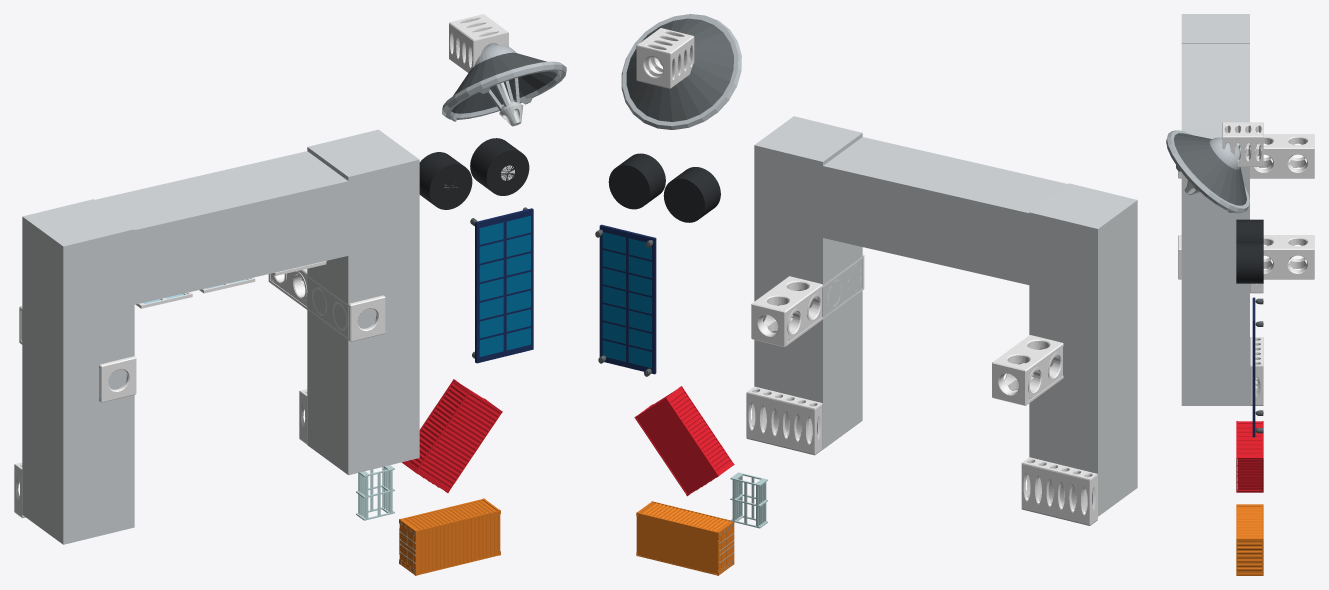
The model's file is tinker.obj.
3 views of the same model, side by side, from view 1: azimuth 30°, elevation 25°; view 2: azimuth 150°, elevation 25°; view 3: azimuth 270°, elevation 25° (orthographic). The views are drawn at different scales.
Parts seen in each view (by area): view 1: obj_0, obj_1, obj_2, obj_6, obj_3, obj_33, obj_4, obj_32, obj_7, obj_27, obj_34, obj_5 (+1 smaller); view 2: obj_1, obj_0, obj_2, obj_33, obj_6, obj_3, obj_4, obj_32, obj_30, obj_29, obj_31, obj_34 (+3 smaller); view 3: obj_2, obj_1, obj_33, obj_31, obj_32, obj_0, obj_3, obj_4, obj_34, obj_7, obj_30, obj_6 (+1 smaller).
Boxes of the visible parts, x1,y1,x2,y2 form: obj_0: [22, 199, 134, 544]; obj_1: [63, 151, 419, 320]; obj_2: [307, 129, 419, 475]; obj_6: [470, 207, 533, 363]; obj_3: [399, 498, 500, 575]; obj_33: [442, 44, 566, 126]; obj_4: [402, 379, 502, 492]; obj_32: [268, 269, 385, 341]; obj_7: [470, 138, 529, 195]; obj_27: [419, 152, 472, 209]; obj_34: [449, 14, 508, 72]; obj_5: [356, 465, 394, 520]; obj_1: [754, 137, 1097, 300]; obj_0: [1029, 183, 1137, 516]; obj_2: [754, 116, 862, 449]; obj_33: [621, 14, 741, 129]; obj_6: [595, 224, 656, 376]; obj_3: [636, 501, 734, 575]; obj_4: [634, 386, 734, 496]; obj_32: [751, 254, 864, 347]; obj_30: [746, 386, 822, 455]; obj_29: [1021, 457, 1097, 525]; obj_31: [992, 335, 1063, 405]; obj_34: [636, 28, 694, 88]; obj_2: [1181, 129, 1249, 405]; obj_1: [1181, 43, 1249, 129]; obj_33: [1166, 130, 1249, 213]; obj_31: [1178, 134, 1314, 178]; obj_32: [1178, 235, 1314, 279]; obj_0: [1181, 14, 1249, 43]; obj_3: [1236, 504, 1263, 575]; obj_4: [1236, 421, 1263, 492]; obj_34: [1222, 122, 1263, 166]; obj_7: [1236, 242, 1263, 283]; obj_30: [1250, 337, 1263, 405]; obj_6: [1252, 297, 1263, 437].
Bounding box in the file's own units: 180 × 178 × 54.47.
